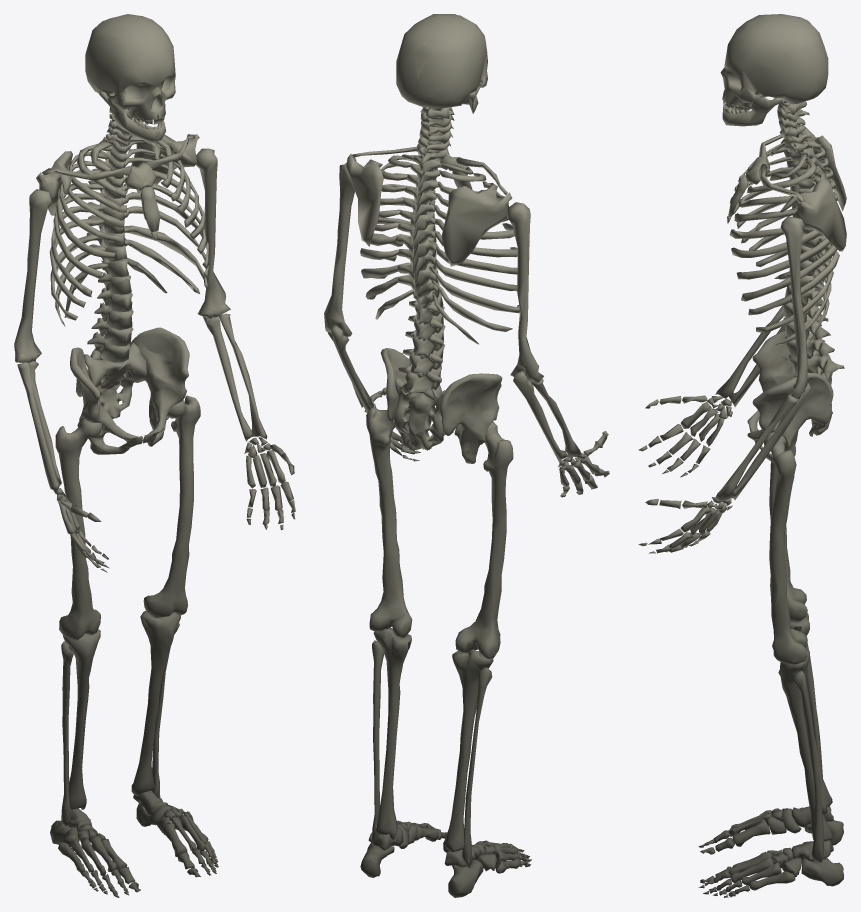
The model's file is Skeleton.glb.
The picture shows the model from 3 angles, left to right: view 1: azimuth 30°, elevation 25°; view 2: azimuth 150°, elevation 25°; view 3: azimuth 270°, elevation 25°; orthographic projection.
Parts seen in each view (by area): view 1: femur right .029, femur right, femur right .104, femur right .031, femur right .028, femur right .155, femur right .132, femur right .071, femur right .133, femur right .080, femur right .111, femur right .172 (+21 smaller); view 2: femur right .029, femur right .104, femur right, femur right .133, femur right .174, femur right .132, femur right .028, femur right .155, femur right .071, femur right .080, femur right .099, femur right .007 (+14 smaller); view 3: femur right .029, femur right, femur right .031, femur right .099, femur right .080, femur right .028, femur right .133, femur right .007, femur right .104, femur right .097, femur right .103, femur right .030 (+20 smaller).
Part boxes in pixels (bbox=[...]): femur right .029: bbox=[85, 14, 175, 129]; femur right: bbox=[143, 395, 200, 618]; femur right .104: bbox=[55, 418, 102, 640]; femur right .031: bbox=[130, 327, 189, 446]; femur right .028: bbox=[131, 611, 180, 796]; femur right .155: bbox=[14, 189, 52, 362]; femur right .132: bbox=[63, 629, 100, 809]; femur right .071: bbox=[83, 342, 146, 418]; femur right .133: bbox=[70, 347, 142, 454]; femur right .080: bbox=[195, 148, 230, 318]; femur right .111: bbox=[61, 641, 73, 826]; femur right .172: bbox=[17, 362, 61, 490]; femur right .029: bbox=[396, 14, 487, 108]; femur right .104: bbox=[455, 421, 513, 659]; femur right: bbox=[366, 407, 412, 637]; femur right .133: bbox=[439, 373, 502, 463]; femur right .174: bbox=[441, 186, 512, 266]; femur right .132: bbox=[443, 649, 493, 852]; femur right .028: bbox=[373, 627, 411, 839]; femur right .155: bbox=[507, 202, 543, 382]; femur right .071: bbox=[394, 378, 445, 450]; femur right .080: bbox=[324, 163, 354, 336]; femur right .099: bbox=[346, 154, 383, 246]; femur right .007: bbox=[372, 640, 384, 844]; femur right .029: bbox=[720, 14, 828, 113]; femur right: bbox=[764, 432, 807, 664]; femur right .031: bbox=[747, 372, 833, 462]; femur right .099: bbox=[780, 178, 846, 251]; femur right .080: bbox=[780, 216, 807, 399]; femur right .028: bbox=[778, 650, 832, 841]; femur right .133: bbox=[747, 331, 832, 432]; femur right .007: bbox=[792, 671, 824, 862]; femur right .104: bbox=[769, 461, 807, 622]; femur right .097: bbox=[715, 394, 797, 500]; femur right .103: bbox=[733, 383, 811, 499]; femur right .030: bbox=[722, 94, 782, 126].
Size of the model in its own units: 0.4785 by 1.74 by 0.387.
1 material, 1 textured.
